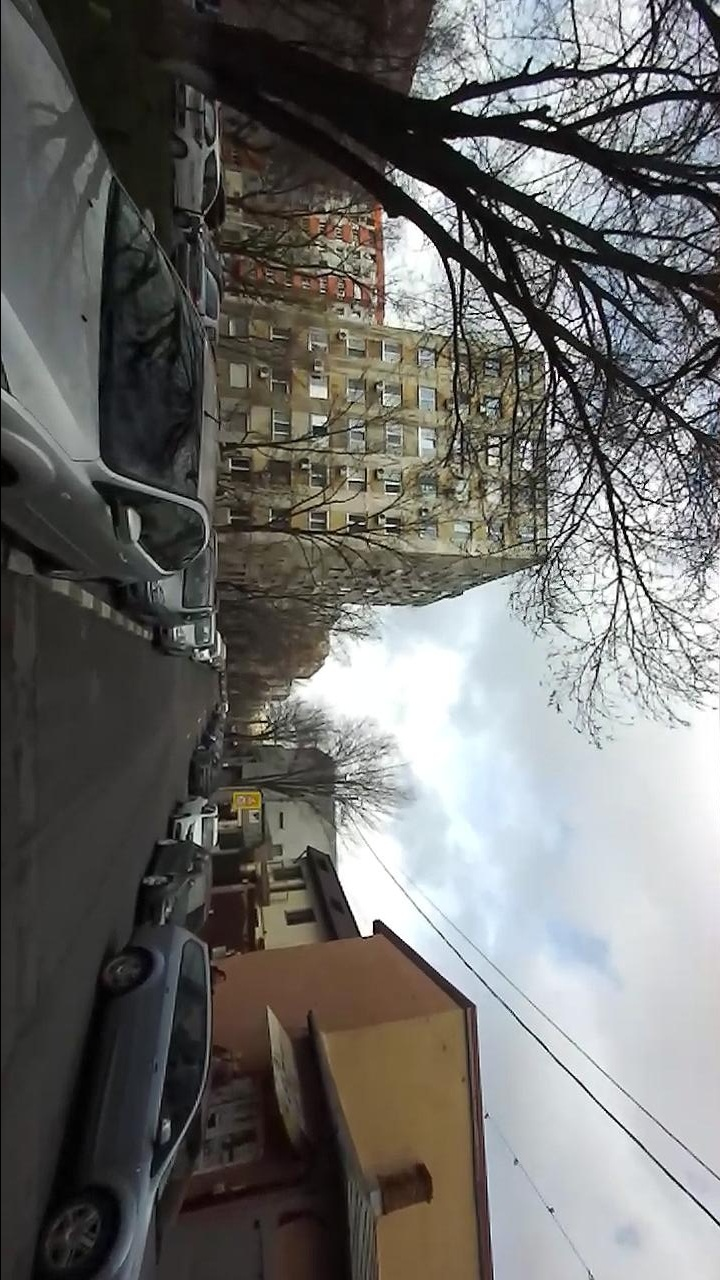pothole: (1, 658, 41, 795)
